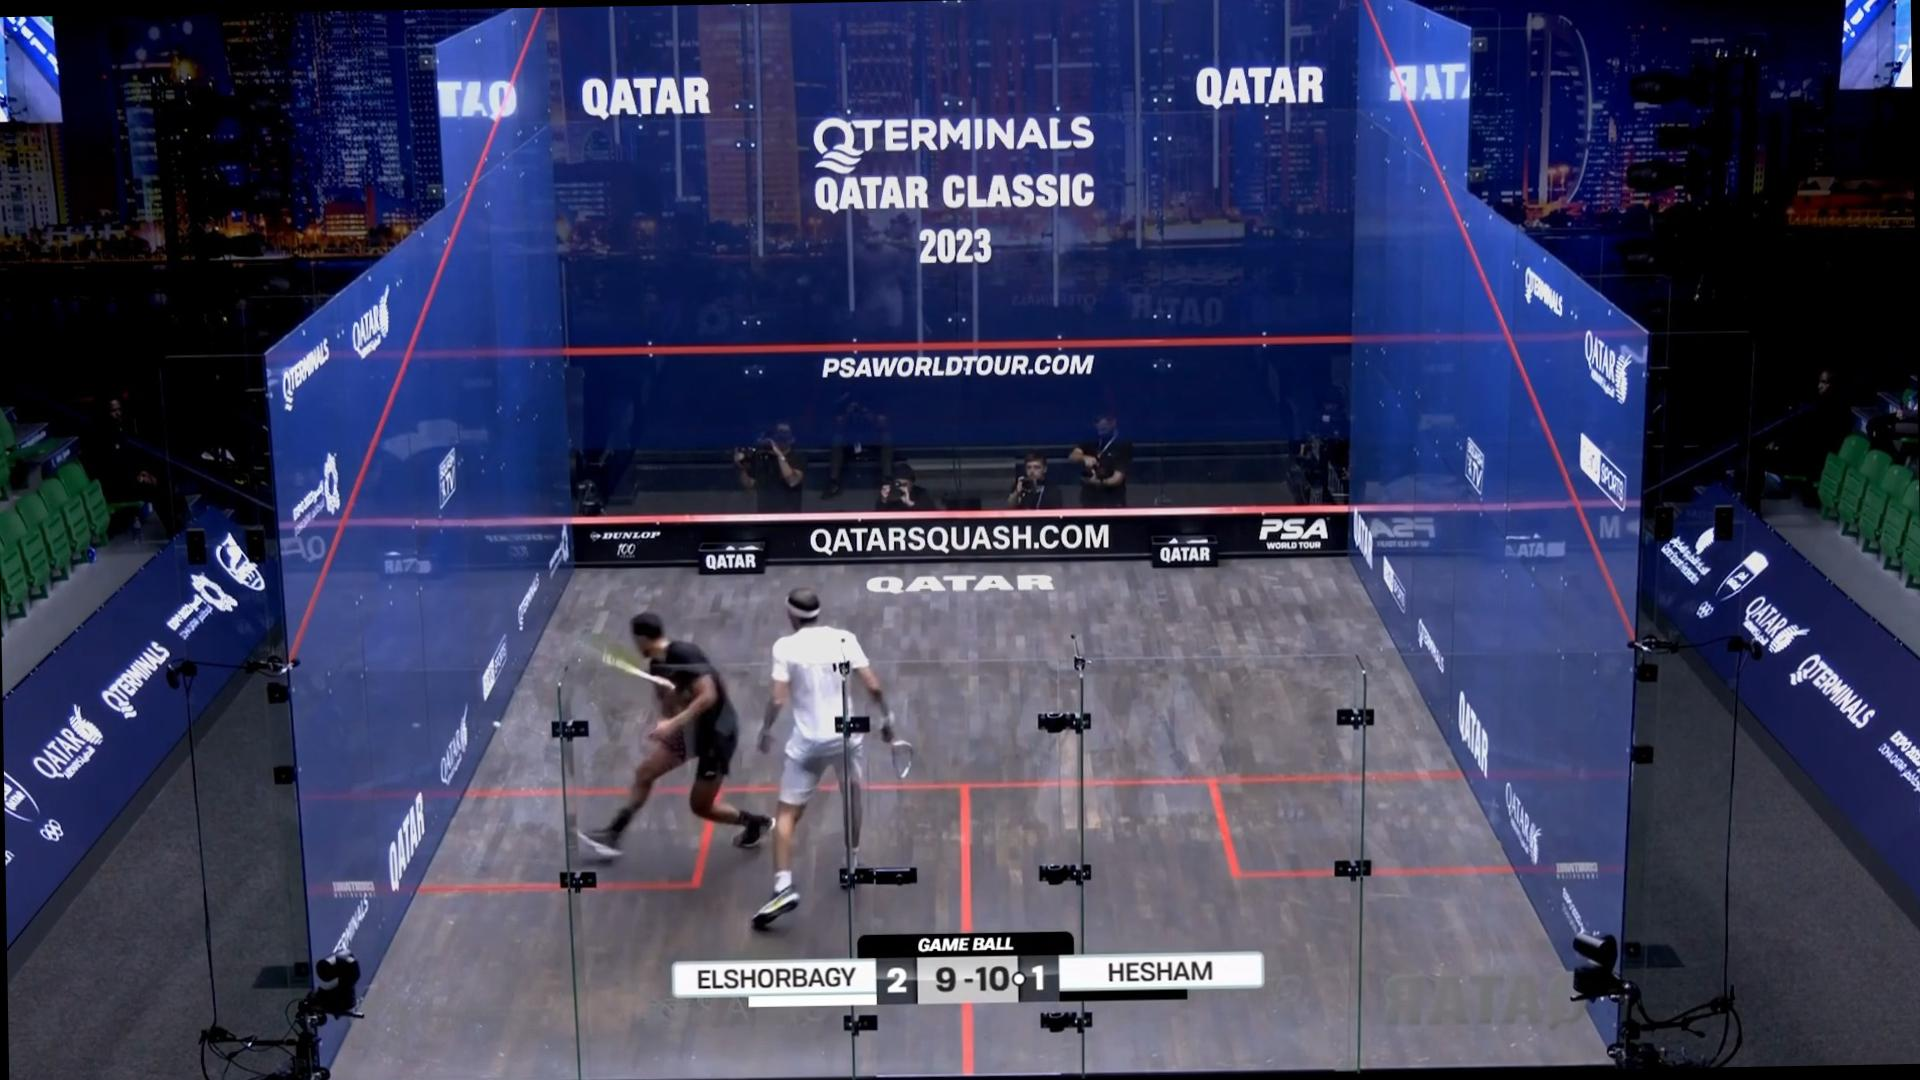Squash-Ball: (488, 709, 508, 738)
